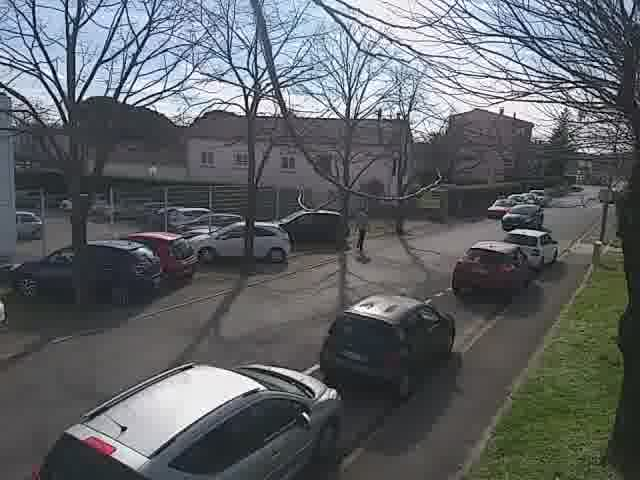persona: (353, 202, 374, 256)
